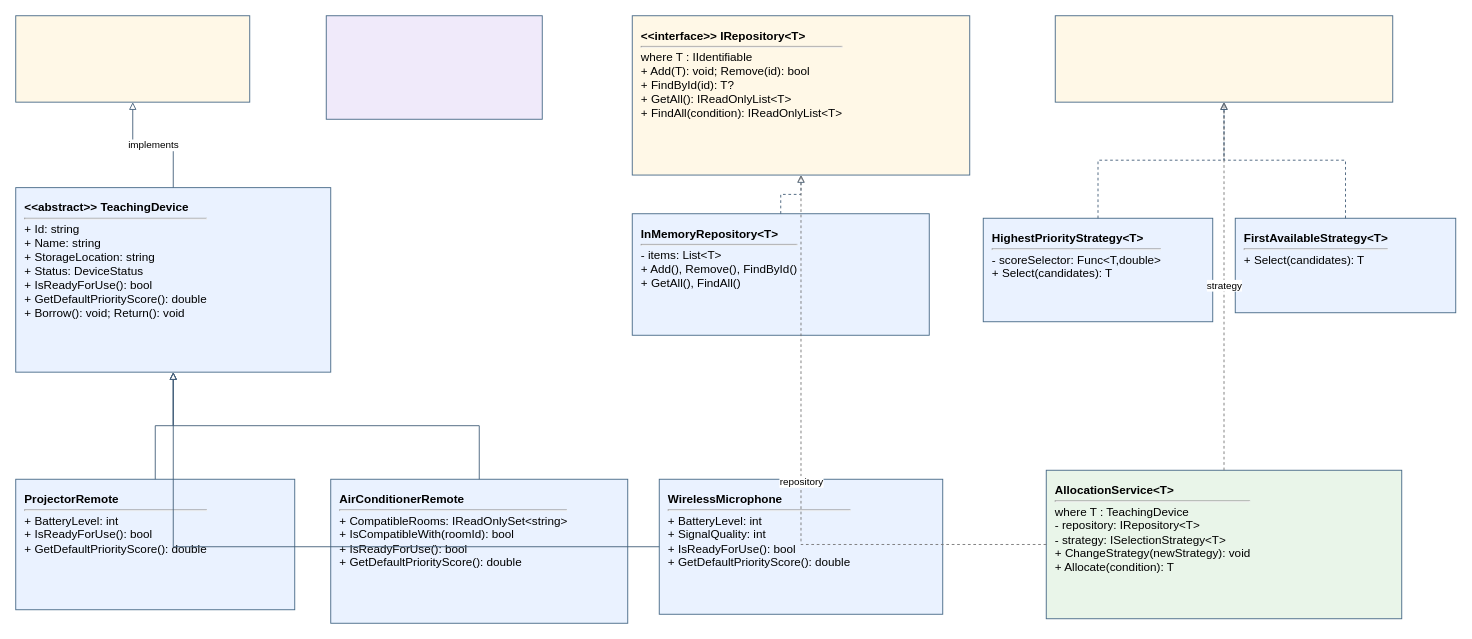
Some shapes in this 1472 by 639 pixel diagram are drawn without their labels. The centre of each missing label's shape, as x and y in pixels:
"<<enum>> DeviceStatus Available Borrowed UnderMaintenance" goes at (x=433, y=67).
"<<interface>> IIdentifiable + Id: string" goes at (x=132, y=58).
"<<interface>> ISelectionStrategy<T> + Select(candidates): T" goes at (x=1223, y=58).
